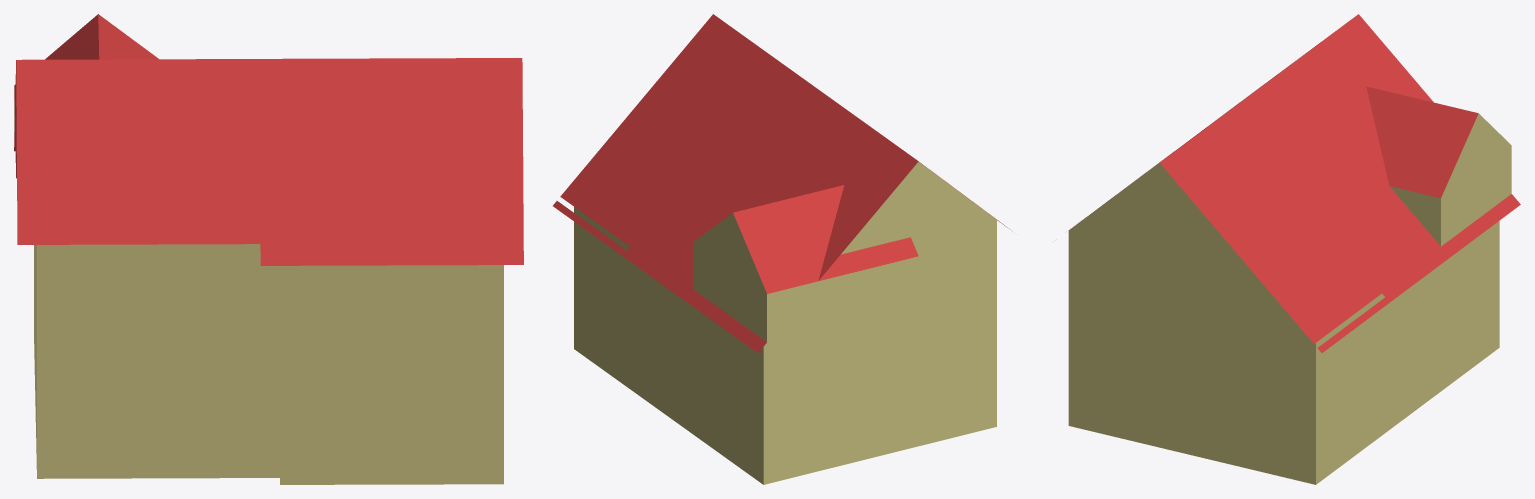
The picture shows the model from 3 angles, left to right: view 1: azimuth 30°, elevation 25°; view 2: azimuth 150°, elevation 25°; view 3: azimuth 270°, elevation 25°; orthographic projection. The views are drawn at different scales.
Bounding box in the file's own units: 23.81 × 22.53 × 15.34.
